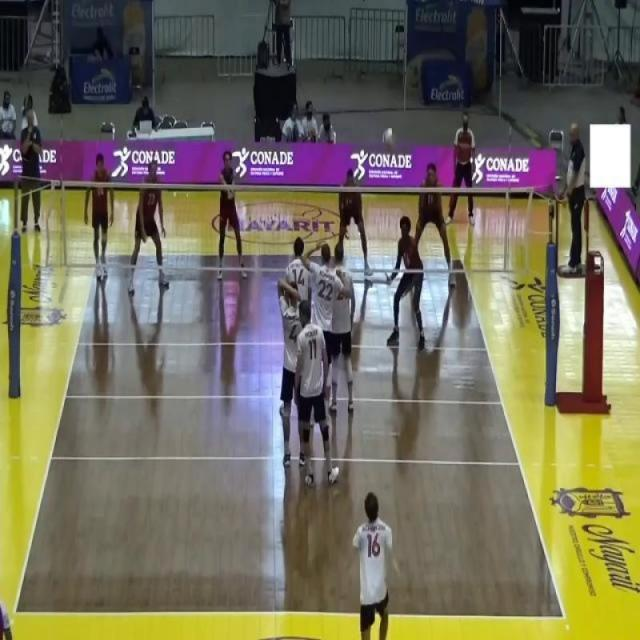volleyball: (382, 127, 394, 147)
